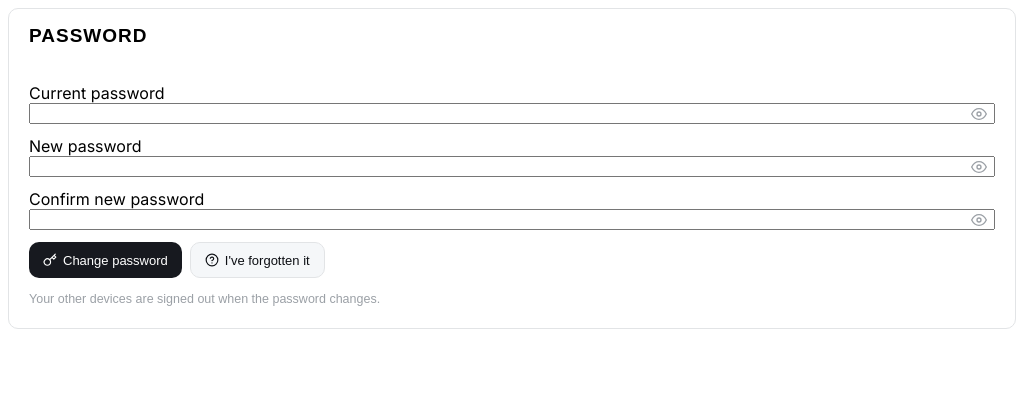
Scenario: PasswordCard forgot-password › reports it plainly and stops offering once sent
Click the button "I've forgotten it" at [257, 260], box [190, 242, 325, 278]
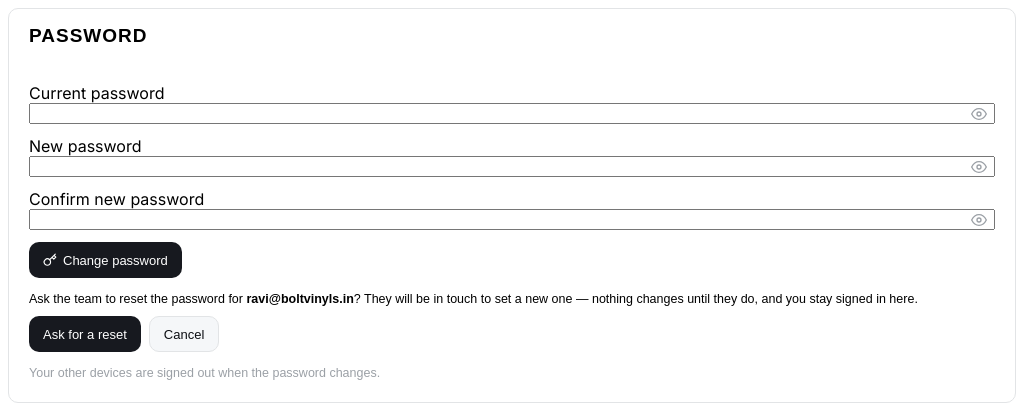
Click the button "Ask for a reset" at [85, 334], box [29, 316, 141, 352]
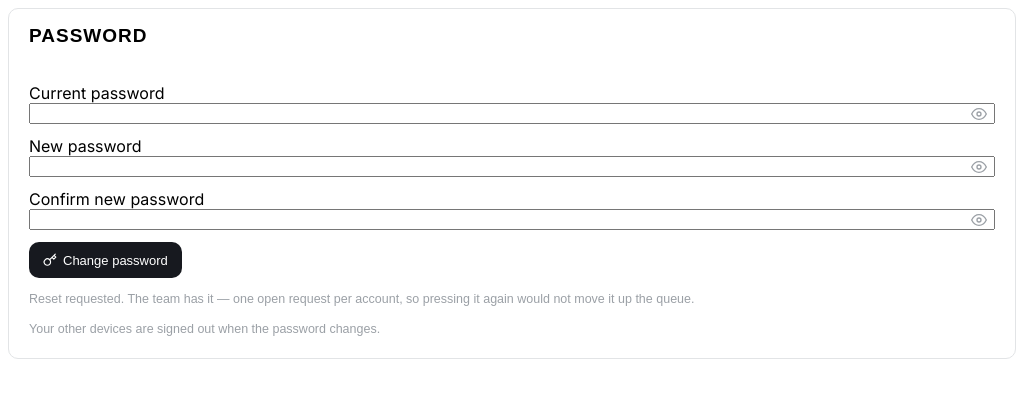
Expected: the button "forgotten it" is not shown
Expected: the text "Reset requested" is shown, [29, 292, 694, 306]
